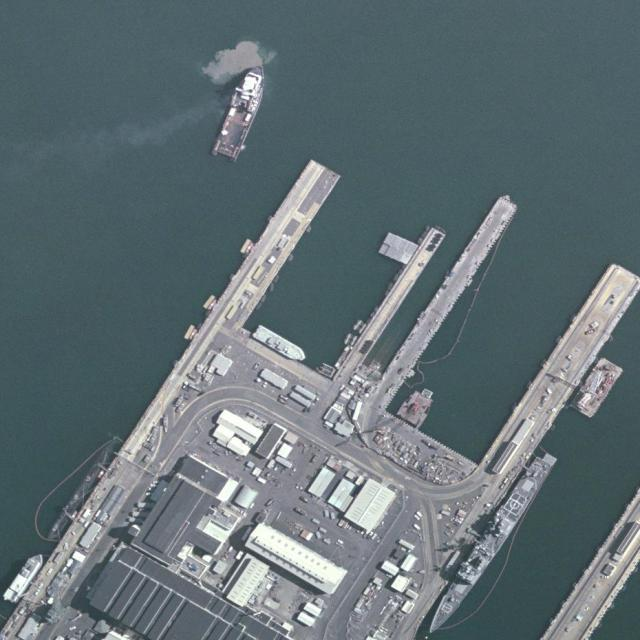Cruiser: (422, 456, 553, 638)
Dock: (371, 193, 521, 404), (215, 155, 341, 326), (331, 228, 448, 385)
Other Ship: (209, 61, 274, 167), (250, 323, 308, 365)
Submarine: (44, 449, 110, 542)
